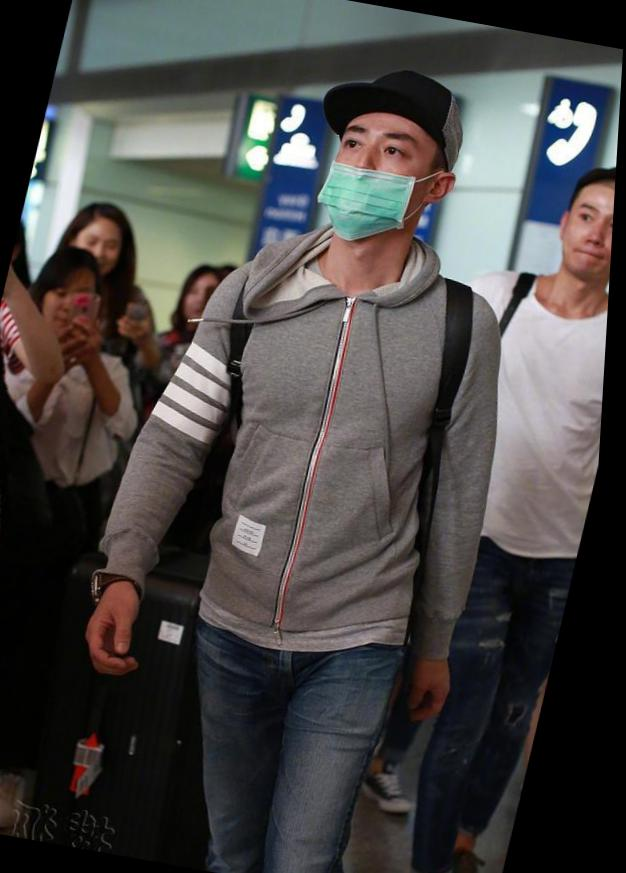NONE: (561, 190, 617, 281), (44, 281, 106, 339), (78, 222, 129, 275)
WRONG: (313, 112, 449, 242)
